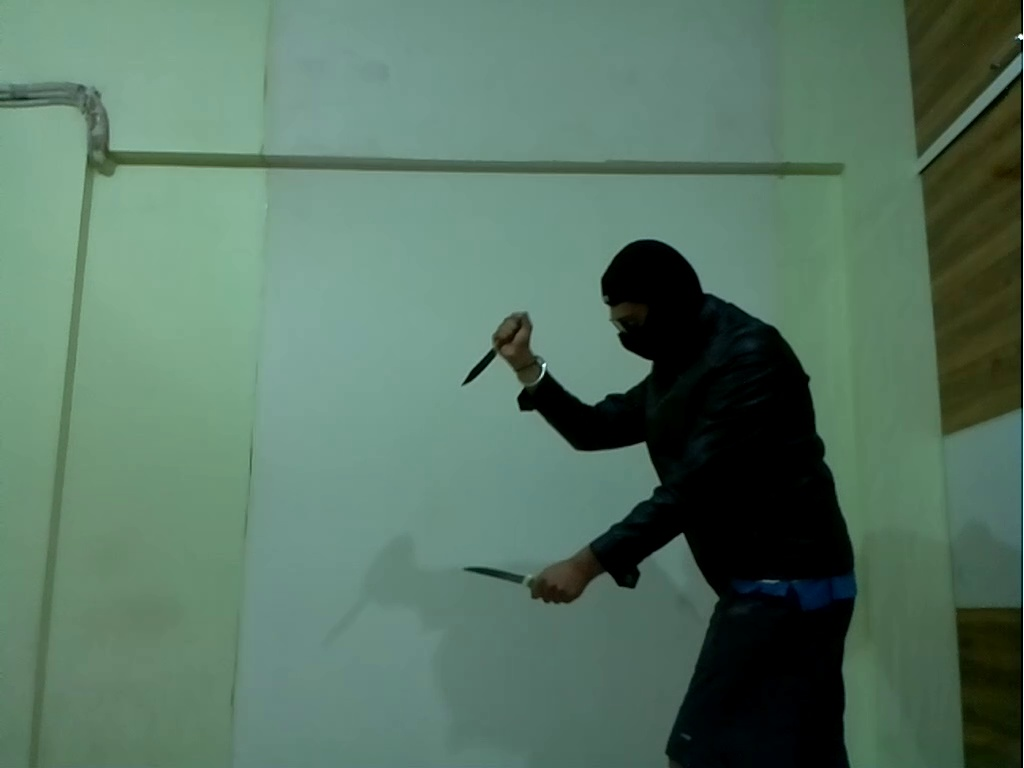knife: (456, 322, 521, 390), (461, 558, 550, 594)
